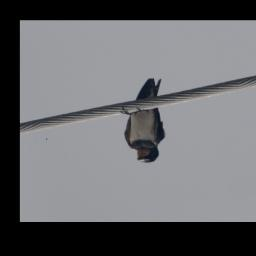Swallow: (107, 76, 188, 166)
